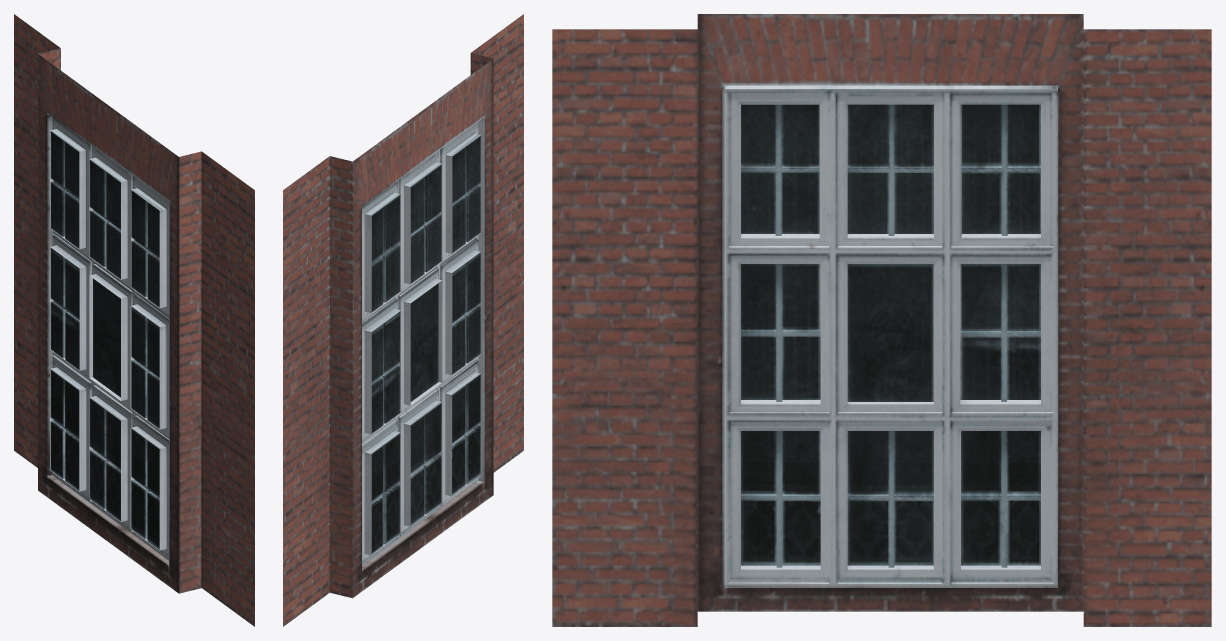
Rendered from window2.glb.
3 views of the same model, side by side, from view 1: azimuth 30°, elevation 25°; view 2: azimuth 150°, elevation 25°; view 3: azimuth 270°, elevation 25° (orthographic). The views are drawn at different scales.
Visible parts, largest first — view 1: 09-0-UF_StraightWall_Baked; view 2: 09-0-UF_StraightWall_Baked; view 3: 09-0-UF_StraightWall_Baked.
Boxes of the visible parts, <box> form: 09-0-UF_StraightWall_Baked: <box>14,14,254,626</box>; 09-0-UF_StraightWall_Baked: <box>283,14,523,626</box>; 09-0-UF_StraightWall_Baked: <box>552,14,1211,626</box>.
Bounding box in the file's own units: 0.0628 × 1 × 1.
Materials: 1 (1 with a texture image).
